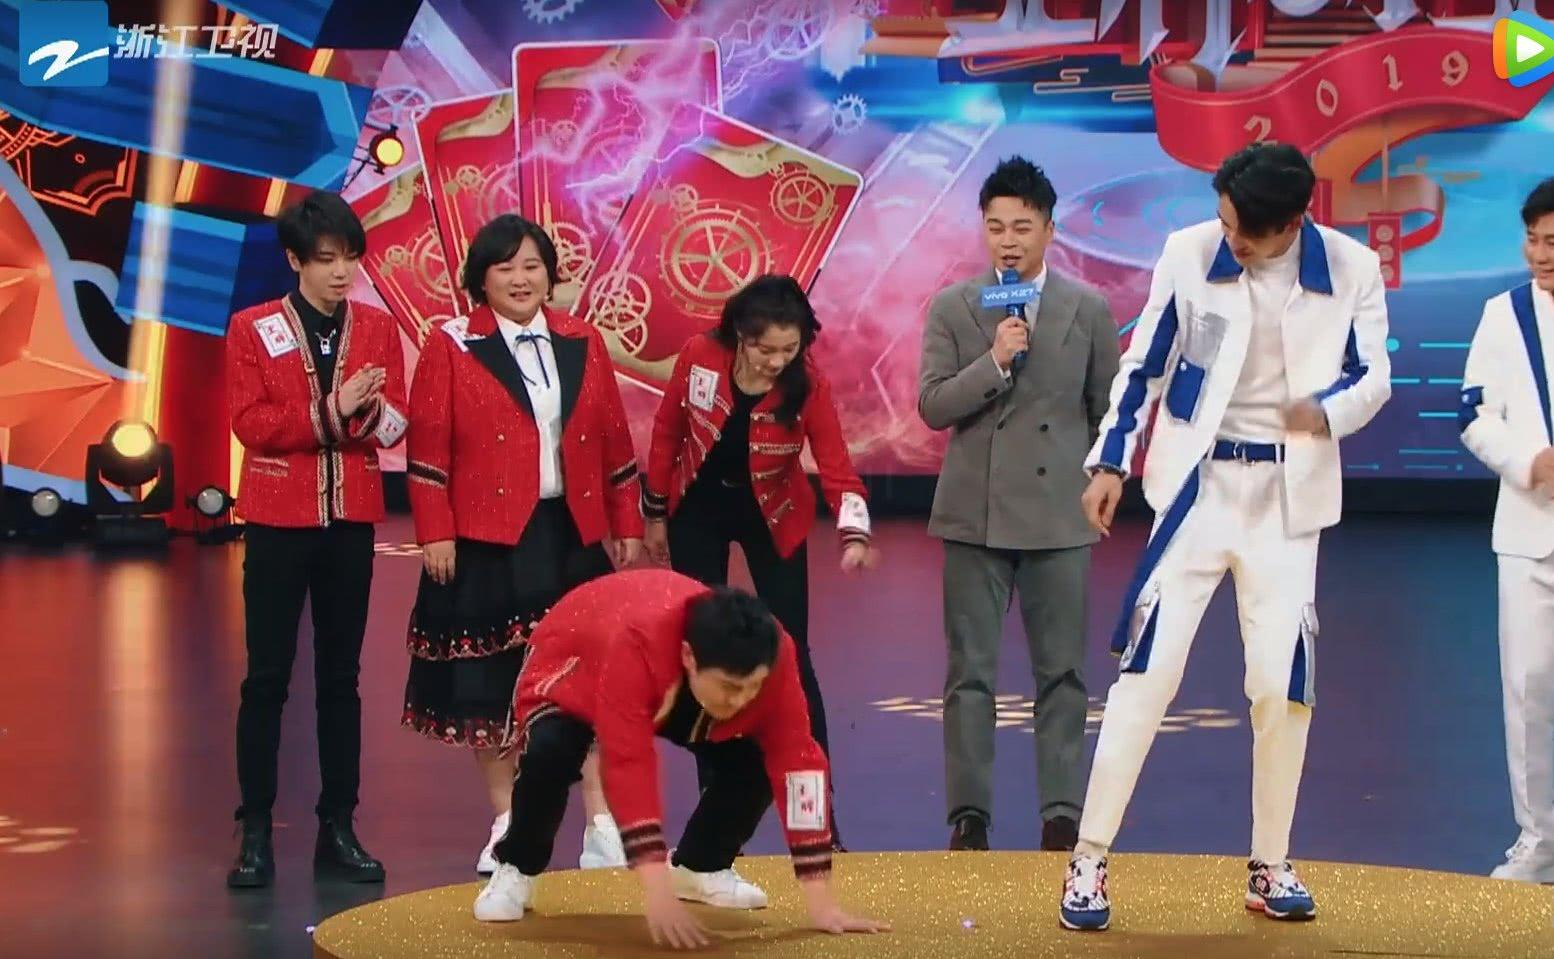bending: (463, 565, 884, 957), (638, 267, 871, 625)
up: (1072, 133, 1384, 928), (908, 150, 1119, 856), (210, 176, 408, 887), (417, 214, 629, 857), (1449, 165, 1554, 892)
